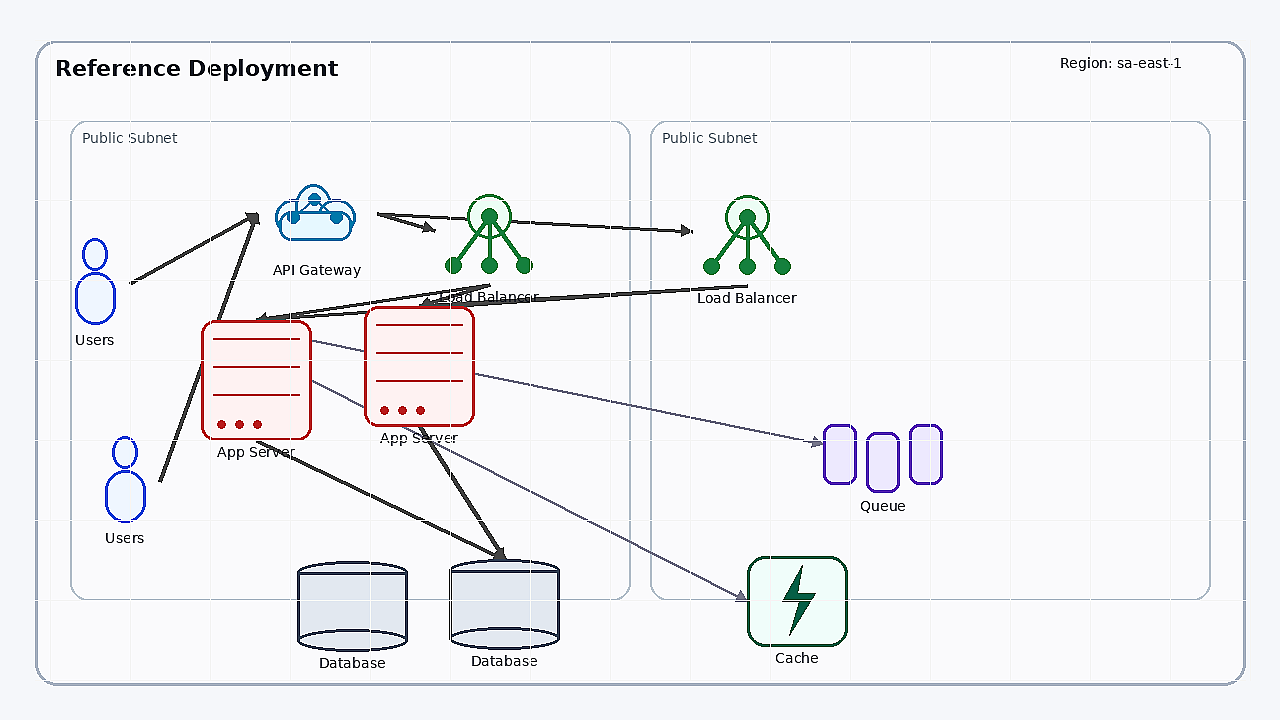API Gateway: (257, 168, 377, 258)
Application Server: (201, 320, 311, 440), (364, 306, 474, 426)
Cache: (747, 556, 847, 646)
Database: (449, 559, 559, 649), (297, 561, 407, 651)
Load Balancer: (692, 176, 802, 286), (434, 175, 544, 285)
Message Queue: (823, 424, 943, 494)
User: (60, 238, 130, 328), (90, 436, 160, 526)
